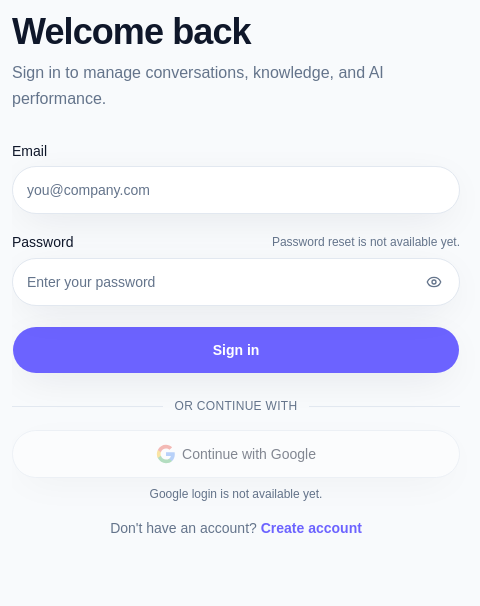
LoginForm › shows required validation when submitted empty
Click the button "Sign in": click(236, 350) [12, 326, 460, 374]
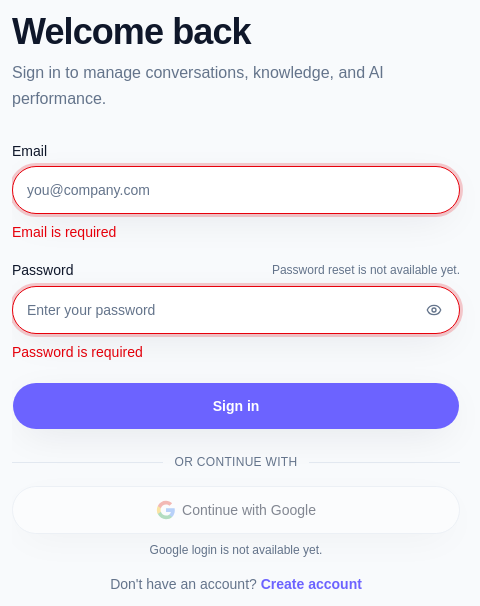
expect the text "Email is required" is shown: met, box [12, 224, 116, 240]
expect the text "Password is required" is shown: met, box [12, 344, 143, 360]
